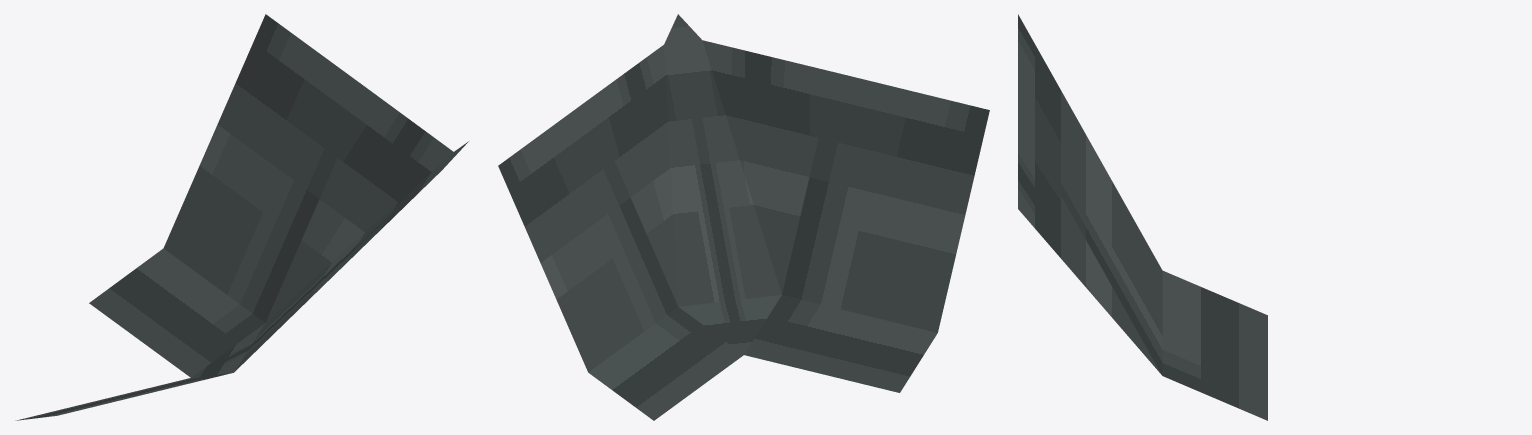
3 views of the same model, side by side, from view 1: azimuth 30°, elevation 25°; view 2: azimuth 150°, elevation 25°; view 3: azimuth 270°, elevation 25° (orthographic). The views are drawn at different scales.
Size of the model in its own units: 1 by 0.7268 by 1.
2 materials, 2 textured.
